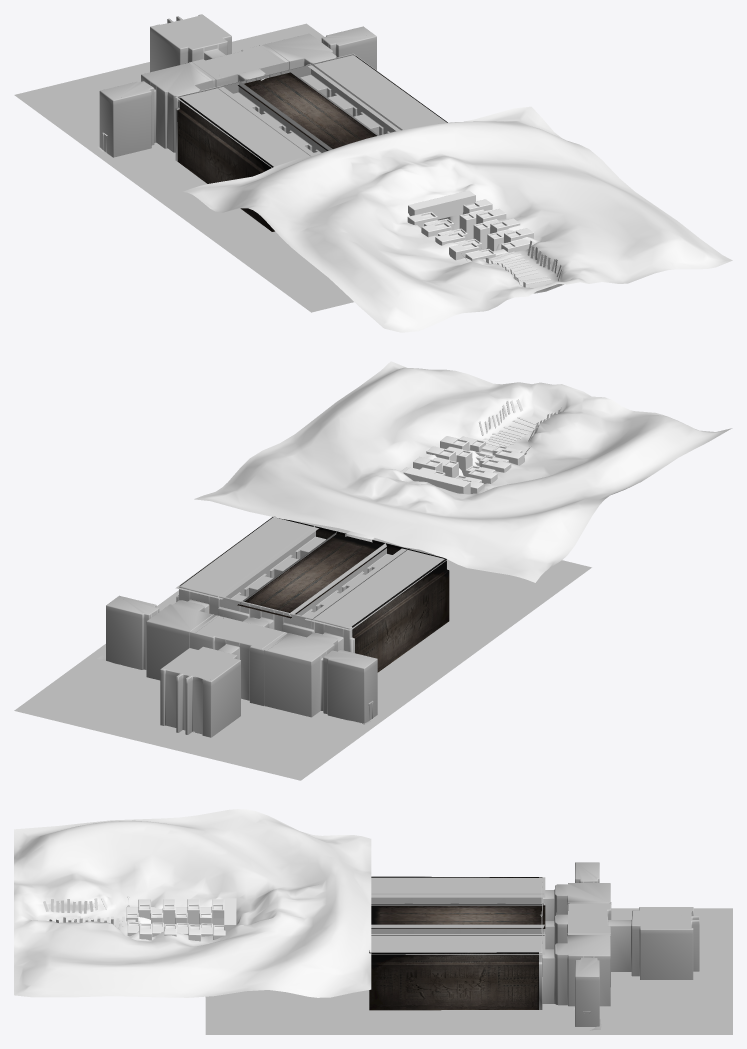
The model's file is Egypt.fbx.
The picture shows the model from 3 angles, top to bottom: view 1: azimuth 30°, elevation 25°; view 2: azimuth 150°, elevation 25°; view 3: azimuth 270°, elevation 25°; orthographic projection. The views are drawn at different scales.
Visible parts, largest first — view 1: ground near, Plane, ceiling hall side, wall hall left, ceiling halll midle, left room, main room, left room hallway, wall stair right, middle room hallway, column right, wall stair left (+6 smaller); view 2: ground near, Plane, ceiling hall side, main room, wall hall left, left room hallway, ceiling halll midle, left room, middle room hallway, right room hallway, right room, wall hall face (+5 smaller); view 3: ground near, Plane, wall hall right, ceiling hall side, main room, ceiling halll midle, right room hallway, wall stair left, column right, colum left, right room, left room hallway (+6 smaller).
Part boxes in pixels (x1=…): ground near: x1=183, y1=106, x2=732, y2=332; Plane: x1=14, y1=23, x2=353, y2=312; ceiling hall side: x1=175, y1=53, x2=446, y2=167; wall hall left: x1=177, y1=98, x2=274, y2=231; ceiling halll midle: x1=238, y1=72, x2=376, y2=150; left room: x1=99, y1=81, x2=155, y2=157; main room: x1=150, y1=14, x2=231, y2=72; left room hallway: x1=141, y1=63, x2=212, y2=152; wall stair right: x1=459, y1=199, x2=533, y2=252; middle room hallway: x1=189, y1=45, x2=285, y2=87; column right: x1=288, y1=63, x2=402, y2=135; wall stair left: x1=407, y1=211, x2=495, y2=260; ground near: x1=194, y1=361, x2=732, y2=582; Plane: x1=14, y1=520, x2=591, y2=780; ceiling hall side: x1=175, y1=517, x2=447, y2=630; main room: x1=160, y1=644, x2=240, y2=737; wall hall left: x1=352, y1=540, x2=449, y2=672; left room hallway: x1=264, y1=632, x2=343, y2=717; ceiling halll midle: x1=237, y1=534, x2=387, y2=618; left room: x1=321, y1=649, x2=377, y2=724; middle room hallway: x1=193, y1=615, x2=287, y2=705; right room hallway: x1=146, y1=599, x2=216, y2=680; right room: x1=106, y1=595, x2=159, y2=669; wall hall face: x1=176, y1=585, x2=354, y2=652; ground near: x1=14, y1=809, x2=371, y2=997; Plane: x1=205, y1=908, x2=732, y2=1034; wall hall right: x1=369, y1=950, x2=538, y2=1010; ceiling hall side: x1=371, y1=877, x2=545, y2=954; main room: x1=608, y1=907, x2=699, y2=979; ceiling halll midle: x1=371, y1=905, x2=545, y2=928; right room hallway: x1=542, y1=935, x2=610, y2=1006; wall stair left: x1=126, y1=899, x2=224, y2=926; column right: x1=371, y1=924, x2=544, y2=935; colum left: x1=371, y1=893, x2=543, y2=905; right room: x1=575, y1=957, x2=599, y2=1026; left room hallway: x1=542, y1=883, x2=610, y2=920.
Size of the model in its own units: 13164 by 4615 by 26495.
